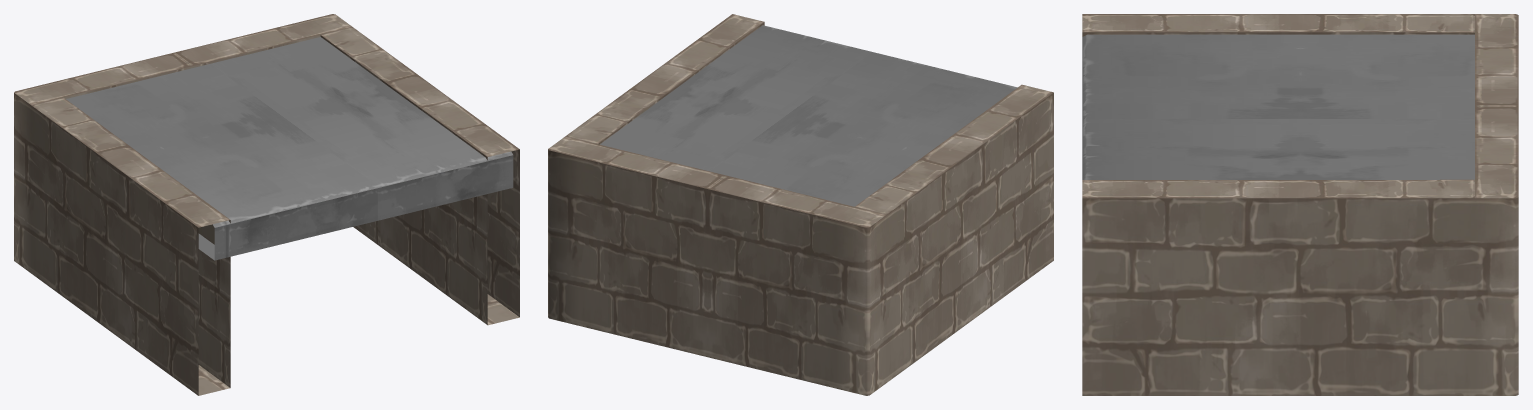
File: Stairs_Exterior_PlatformU.gltf
3 renders of one model, left to right at view 1: azimuth 30°, elevation 25°; view 2: azimuth 150°, elevation 25°; view 3: azimuth 270°, elevation 25°, orthographic. The views are drawn at different scales.
Visible parts, largest first — view 1: Stairs_Exterior_PlatformU; view 2: Stairs_Exterior_PlatformU; view 3: Stairs_Exterior_PlatformU.
Part boxes in pixels (x1=…): Stairs_Exterior_PlatformU: x1=14, y1=14, x2=519, y2=395; Stairs_Exterior_PlatformU: x1=548, y1=14, x2=1053, y2=395; Stairs_Exterior_PlatformU: x1=1082, y1=14, x2=1518, y2=395.
Size of the model in its own units: 2 by 1 by 2.
Materials: 2 (2 with a texture image).
